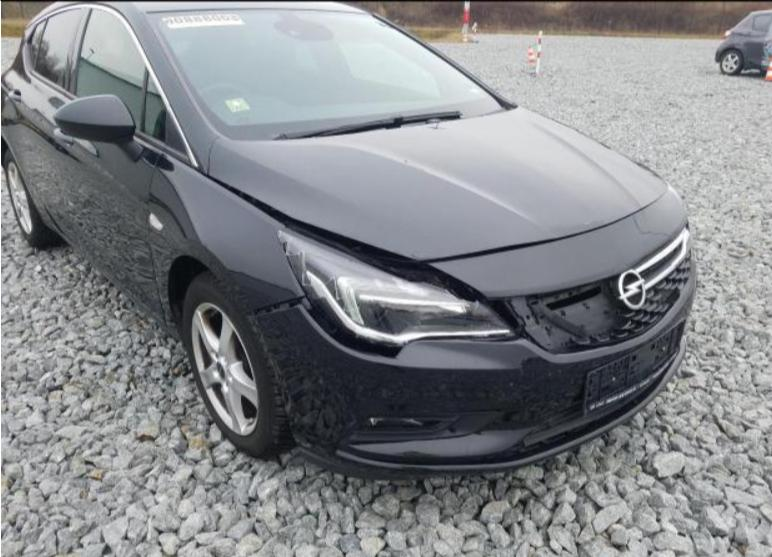Broken part: (247, 267, 699, 468), (212, 175, 493, 296), (279, 227, 515, 347), (485, 226, 694, 356)
